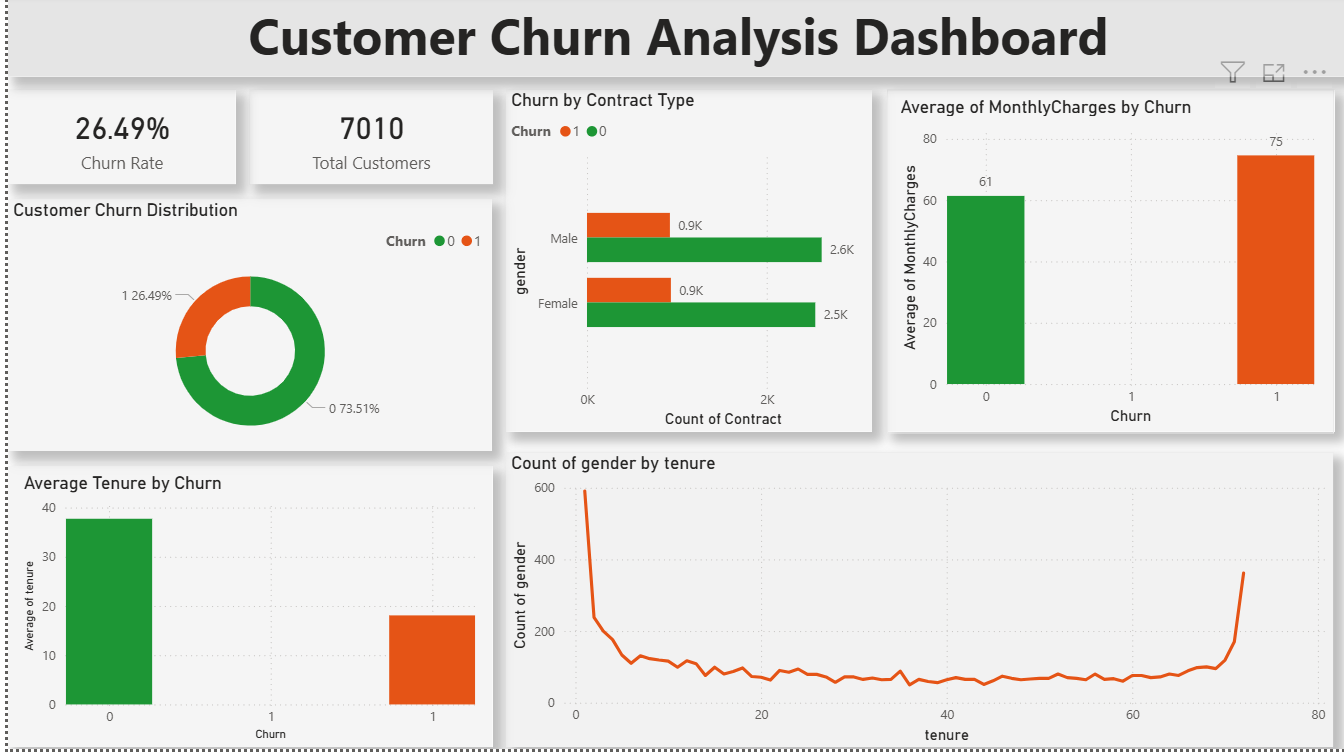

What the dashboard file says about the page in this screenshot:
{"tool":"powerbi","page":{"name":"Page 1","canvas":[1280,720],"ordinal":0},"visuals":[{"type":"card","fields":{"Values":["churn_final.Total Customers"]},"box":[230.6,90.7,232.4,90.7],"z":0},{"type":"card","fields":{"Values":["churn_final.Churn Rate"]},"box":[0,90.7,217.3,90.7],"z":1000},{"type":"donutChart","title":"Customer Churn Distribution","fields":{"Category":["churn_final.Churn"],"Y":["CountNonNull(churn_final.Contract)"]},"box":[0,195.2,462.1,241],"z":2000},{"type":"clusteredBarChart","title":"Churn by Contract Type","fields":{"Y":["CountNonNull(churn_final.Contract)"],"Category":["churn_final.gender"],"Series":["churn_final.Churn"]},"box":[476.2,90.7,349.6,326.9],"z":3000},{"type":"clusteredColumnChart","fields":{"Category":["churn_final.Churn"],"Y":["Avg(churn_final.MonthlyCharges)"]},"box":[839.1,90.7,427.1,326.9],"z":4000},{"type":"clusteredColumnChart","title":"Average Tenure by Churn","fields":{"Category":["churn_final.Churn"],"Y":["Avg(churn_final.tenure)"]},"box":[0,449.8,463,268.3],"z":5000},{"type":"textbox","box":[0,0,1280.7,77.7],"z":6000},{"type":"lineChart","fields":{"Category":["churn_final.tenure"],"Y":["CountNonNull(churn_final.gender)"]},"box":[476.2,436.5,789.9,281.6],"z":7000}]}

Visuals, with their boxes in screenshot pixels (x1, y1, x2, y2), scaled from the page's 1280x720 canvas onto the 1344x756 screenshot:
card - churn_final.Total Customers: 242/95/486/190
card - churn_final.Churn Rate: 0/95/228/190
"Customer Churn Distribution" donutChart: 0/205/485/458
"Churn by Contract Type" clusteredBarChart: 500/95/867/438
clusteredColumnChart - churn_final.Churn x Avg(churn_final.MonthlyCharges): 881/95/1330/438
"Average Tenure by Churn" clusteredColumnChart: 0/472/486/754
textbox: 0/0/1343/82
lineChart - churn_final.tenure x CountNonNull(churn_final.gender): 500/458/1329/754
